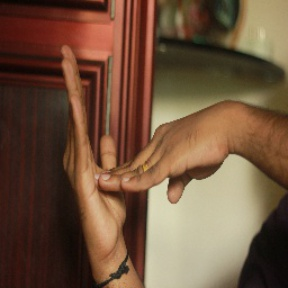Z: (53, 39, 236, 247)
